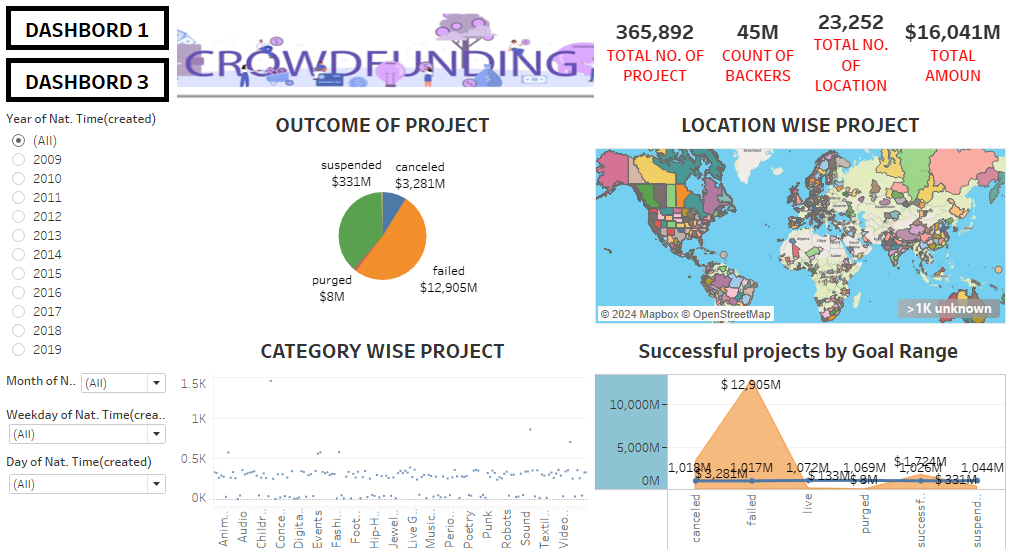

The page's visual inventory and layout, read from the dashboard file:
{"tool":"tableau","page":{"name":"Dashboard 2","canvas":[1024,568],"ordinal":1},"visuals":[{"type":"dashboard-object","box":[8,8,171,52]},{"type":"image","param":"D:/DA/project 2 (P220)/Picture1.png","box":[179,8,425,100]},{"type":"worksheet","title":"TOTAL NO. OF PROJECT","mark":"Automatic","box":[604,8,113,100]},{"type":"worksheet","title":"COUNT OF BACKERS","mark":"Text","box":[717,8,94,100]},{"type":"worksheet","title":"TOTAL NO. OF LOCATION","mark":"Automatic","box":[811,8,91,100]},{"type":"worksheet","title":"TOTAL AMOUN","mark":"Automatic","box":[902,8,114,100]},{"type":"dashboard-object","box":[8,60,171,52]},{"type":"worksheet","title":"OUTCOME OF PROJECT","mark":"Pie","box":[179,108,418.5,226]},{"type":"worksheet","title":"LOCATION WISE PROJECT","mark":"Multipolygon","box":[597.5,108,418.5,226]},{"type":"filter","title":"COUNT OF BACKERS","param":"[federated.1hlrc2l0n2a86311llv1q1hjvrsu].[yr:Calculation_406449933332041730:ok]","box":[8,112,171,260]},{"type":"worksheet","title":"CATEGORY WISE PROJECT","mark":"Circle","rows":["id (Category)"],"cols":["name (Category)"],"box":[179,334,418.5,226]},{"type":"worksheet","title":"Successful projects by Goal Range ","mark":"Automatic","rows":["id","goal"],"cols":["state"],"box":[597.5,334,418.5,226]},{"type":"filter","title":"COUNT OF BACKERS","param":"[federated.1hlrc2l0n2a86311llv1q1hjvrsu].[tmn:Calculation_406449933332041730:ok]","box":[8,372,171,36]},{"type":"filter","title":"COUNT OF BACKERS","param":"[federated.1hlrc2l0n2a86311llv1q1hjvrsu].[wd:Calculation_406449933332041730:ok]","box":[8,408,171,47]},{"type":"filter","title":"COUNT OF BACKERS","param":"[federated.1hlrc2l0n2a86311llv1q1hjvrsu].[dy:Calculation_406449933332041730:ok]","box":[8,455,171,46]}]}

Visuals, with their boxes in screenshot pixels (x1, y1, x2, y2), scaled from the page's 1024x568 canvas onto the 1015x560 screenshot:
dashboard-object: (8,8,177,59)
image: (177,8,599,106)
"TOTAL NO. OF PROJECT" worksheet: (599,8,711,106)
"COUNT OF BACKERS" worksheet (Text marks): (711,8,804,106)
"TOTAL NO. OF LOCATION" worksheet: (804,8,894,106)
"TOTAL AMOUN" worksheet: (894,8,1007,106)
dashboard-object: (8,59,177,110)
"OUTCOME OF PROJECT" worksheet (Pie marks): (177,106,592,329)
"LOCATION WISE PROJECT" worksheet (Multipolygon marks): (592,106,1007,329)
"COUNT OF BACKERS" filter: (8,110,177,367)
"CATEGORY WISE PROJECT" worksheet (Circle marks): (177,329,592,552)
"Successful projects by Goal Range " worksheet: (592,329,1007,552)
"COUNT OF BACKERS" filter: (8,367,177,402)
"COUNT OF BACKERS" filter: (8,402,177,449)
"COUNT OF BACKERS" filter: (8,449,177,494)
